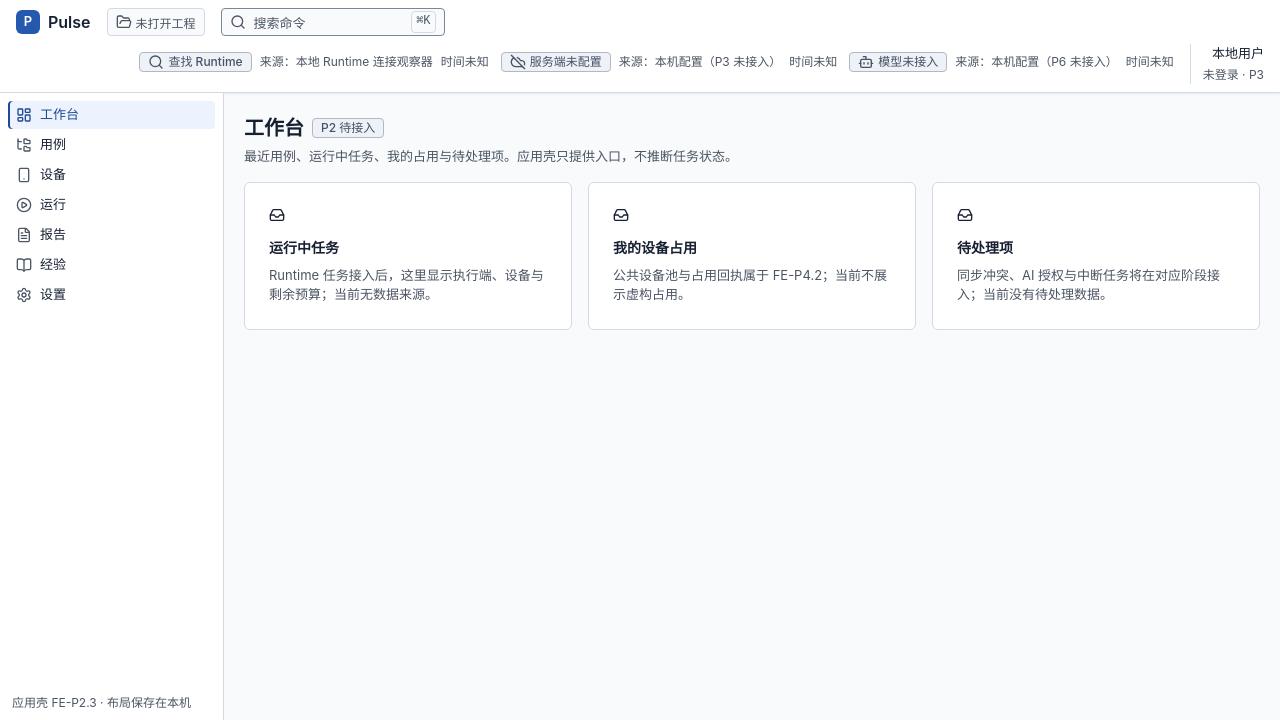
Test: Meta+K opens the command palette and a layout command navigates with that preset
Expected: the navigation bar named "主导航" is shown, left=0, top=92, right=224, bottom=719
Press k
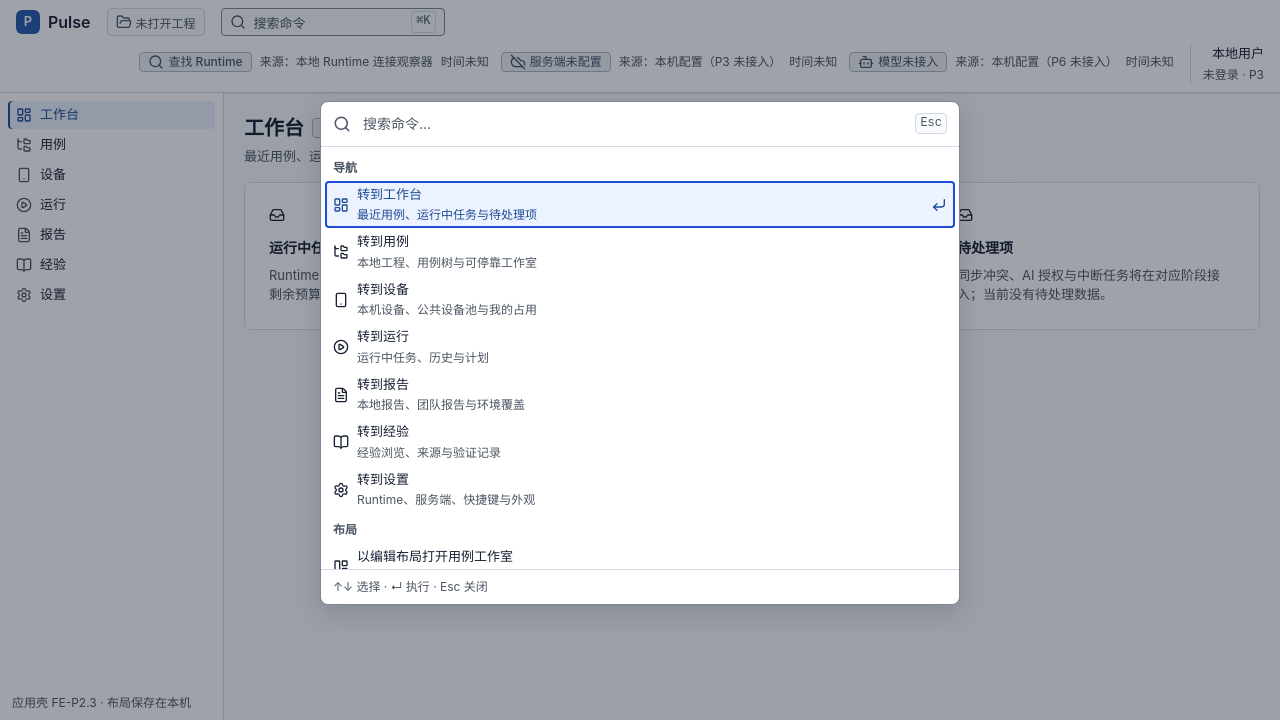
Result: the dialog is shown at left=320, top=101, right=960, bottom=605
Type "录制布局" into the dropdown labelled "搜索命令" at (633, 124), box left=359, top=110, right=907, bottom=138
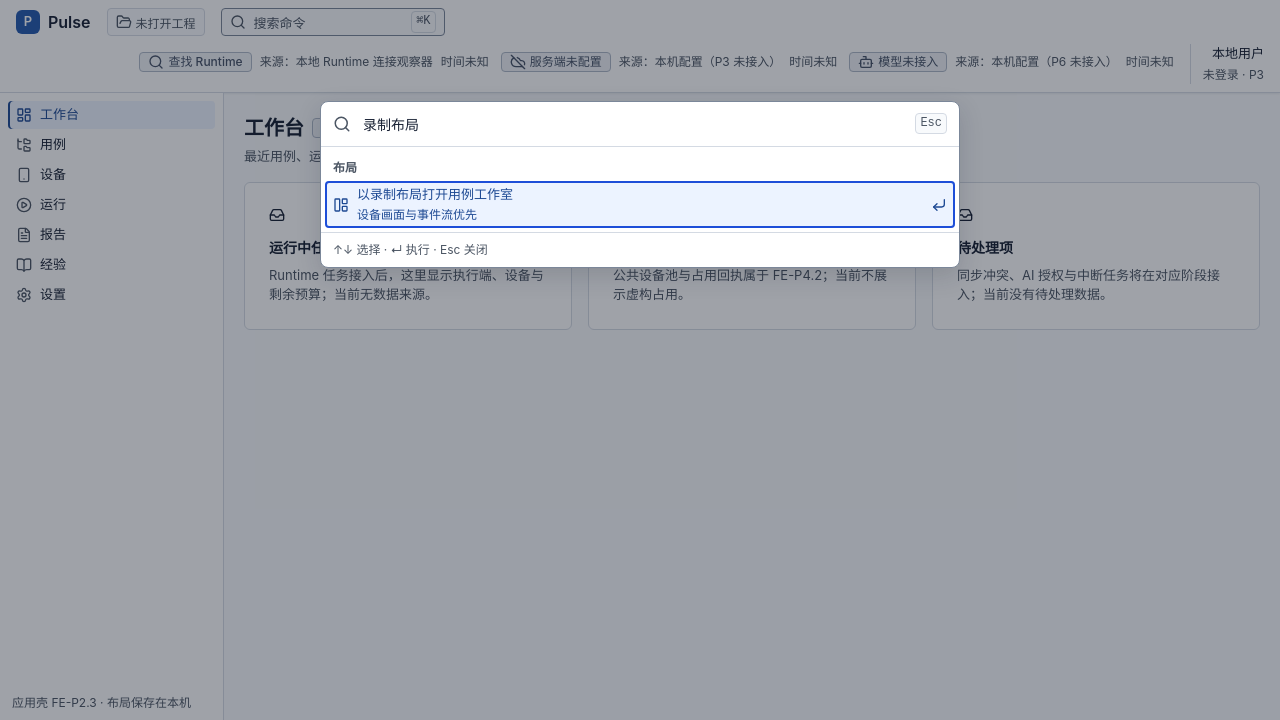
Result: the number of options is 1 at left=325, top=181, right=955, bottom=228
Press Enter
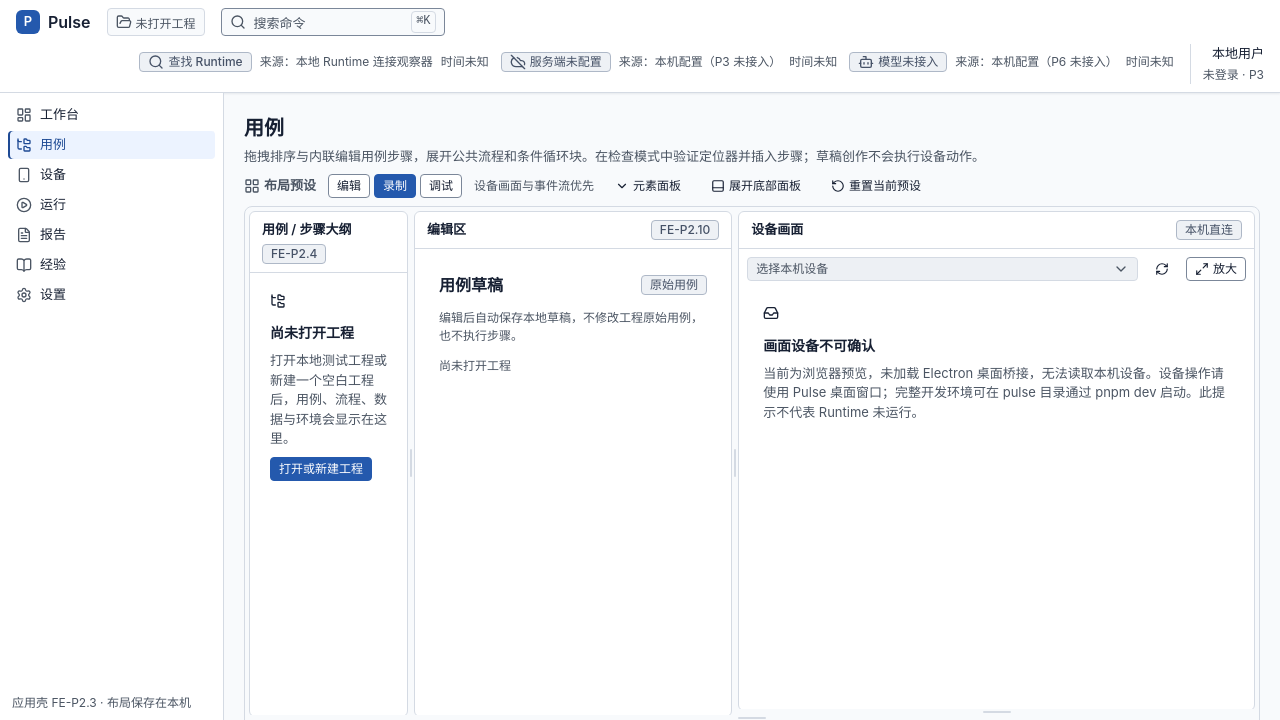
Result: the dialog is gone
